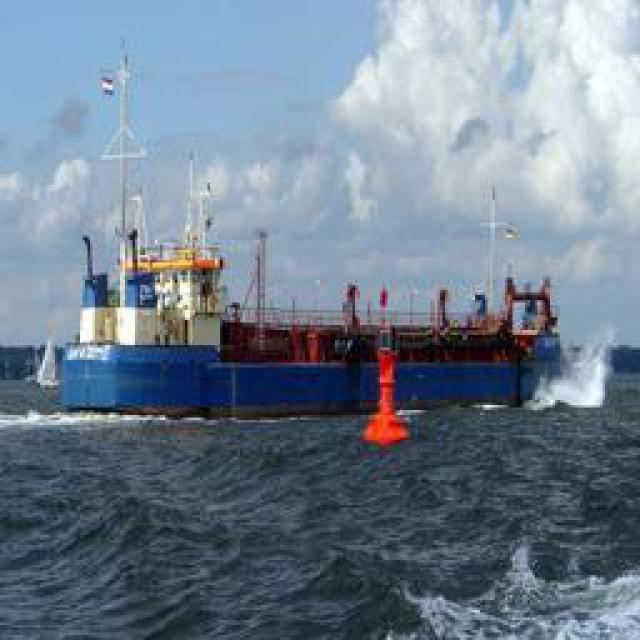Ship: (40, 326, 553, 416)
